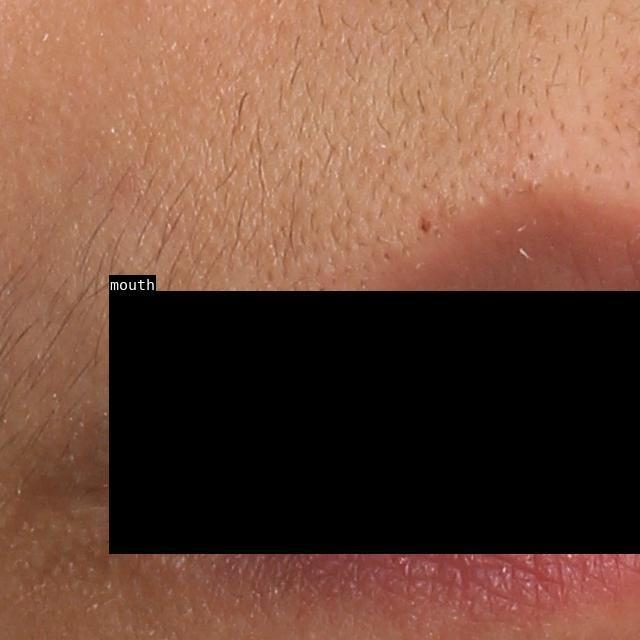nevus: (416, 209, 435, 233)
